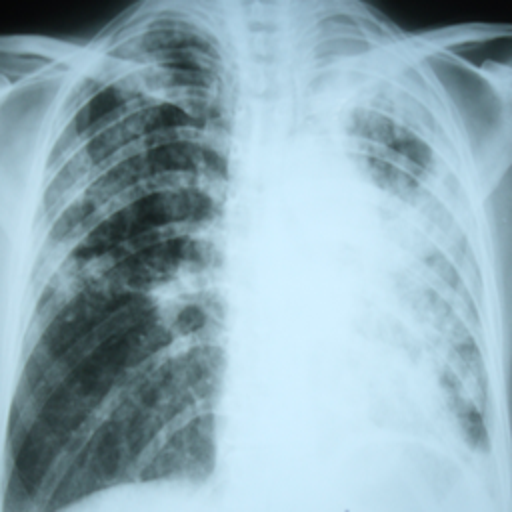TB: (50, 46, 212, 358), (376, 81, 471, 389)
